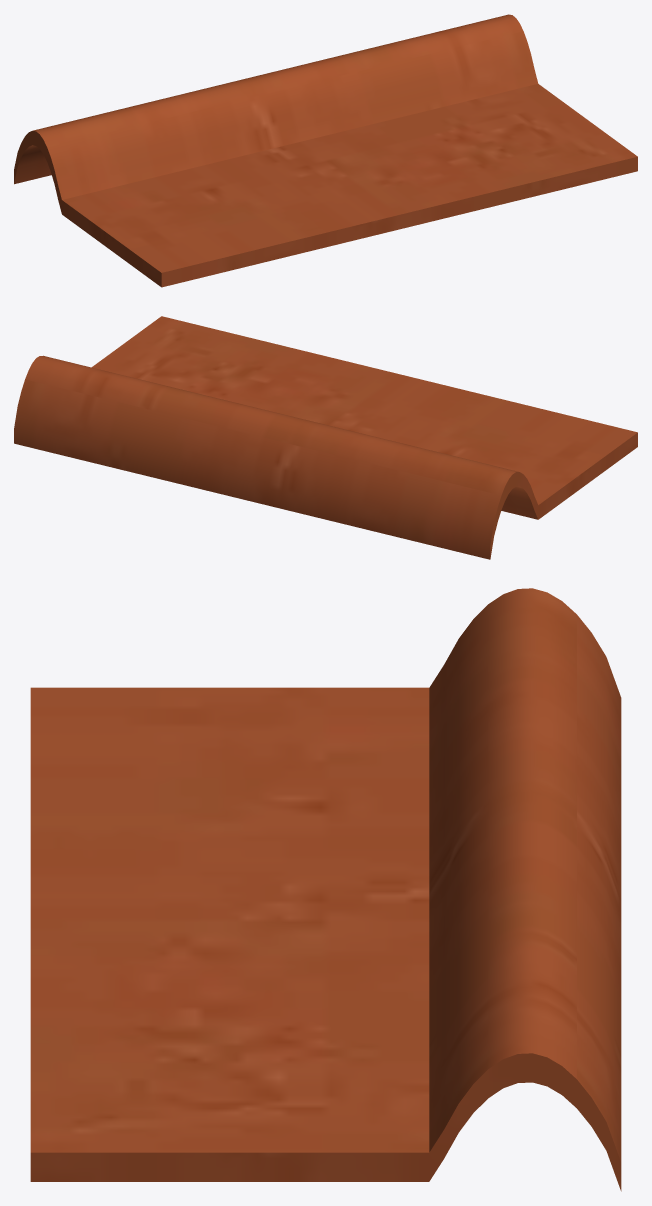
The model's file is COB-CER-003_lod1.glb.
The picture shows the model from 3 angles, top to bottom: view 1: azimuth 30°, elevation 25°; view 2: azimuth 150°, elevation 25°; view 3: azimuth 270°, elevation 25°; orthographic projection. The views are drawn at different scales.
Parts seen in each view (by area): view 1: COB-CER-003_telha; view 2: COB-CER-003_telha; view 3: COB-CER-003_telha.
Boxes of the visible parts, x1,y1,x2,y2 form: COB-CER-003_telha: [14, 14, 637, 287]; COB-CER-003_telha: [14, 316, 637, 559]; COB-CER-003_telha: [30, 588, 621, 1191].
Size of the model in its own units: 0.41 by 0.0569 by 0.22.
1 material, 1 textured.
